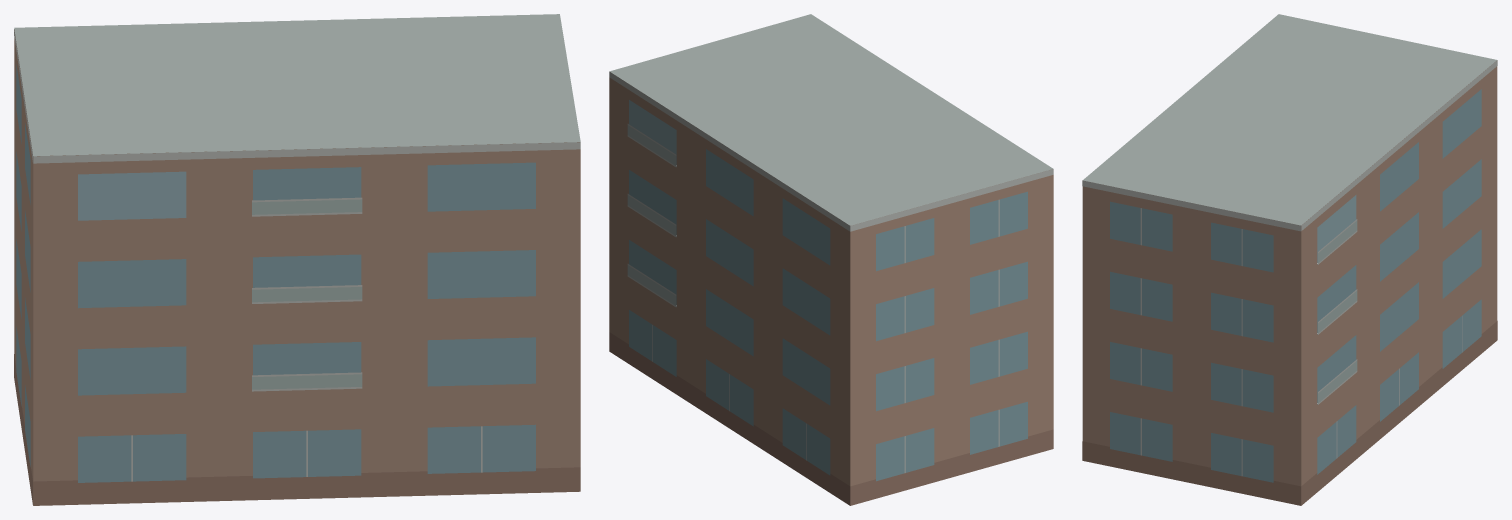
The model's file is survey-upis-32893098.glb.
3 renders of one model, left to right at view 1: azimuth 30°, elevation 25°; view 2: azimuth 150°, elevation 25°; view 3: azimuth 270°, elevation 25°, orthographic. The views are drawn at different scales.
Parts seen in each view (by area): view 1: survey-upis-32893098.tmp; view 2: survey-upis-32893098.tmp; view 3: survey-upis-32893098.tmp.
Boxes of the visible parts, x1,y1,x2,y2 form: survey-upis-32893098.tmp: [14, 14, 580, 505]; survey-upis-32893098.tmp: [609, 14, 1053, 505]; survey-upis-32893098.tmp: [1082, 14, 1497, 505].
Bounding box in the file's own units: 18.78 × 11.6 × 15.57.
